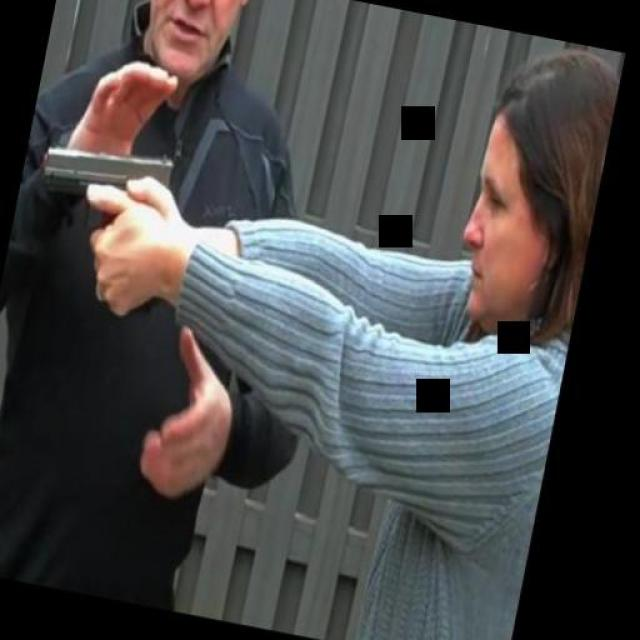gun: (14, 130, 185, 318)
